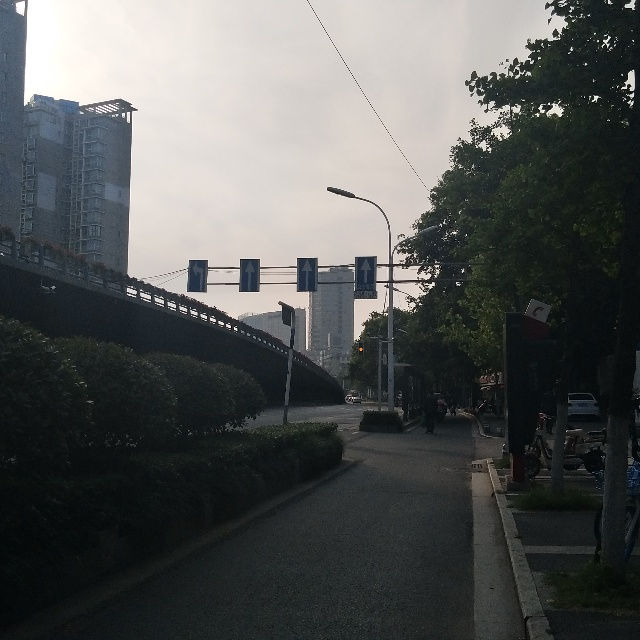left: (191, 257, 208, 291)
straight: (357, 255, 377, 289), (240, 258, 258, 290), (300, 258, 315, 293)
